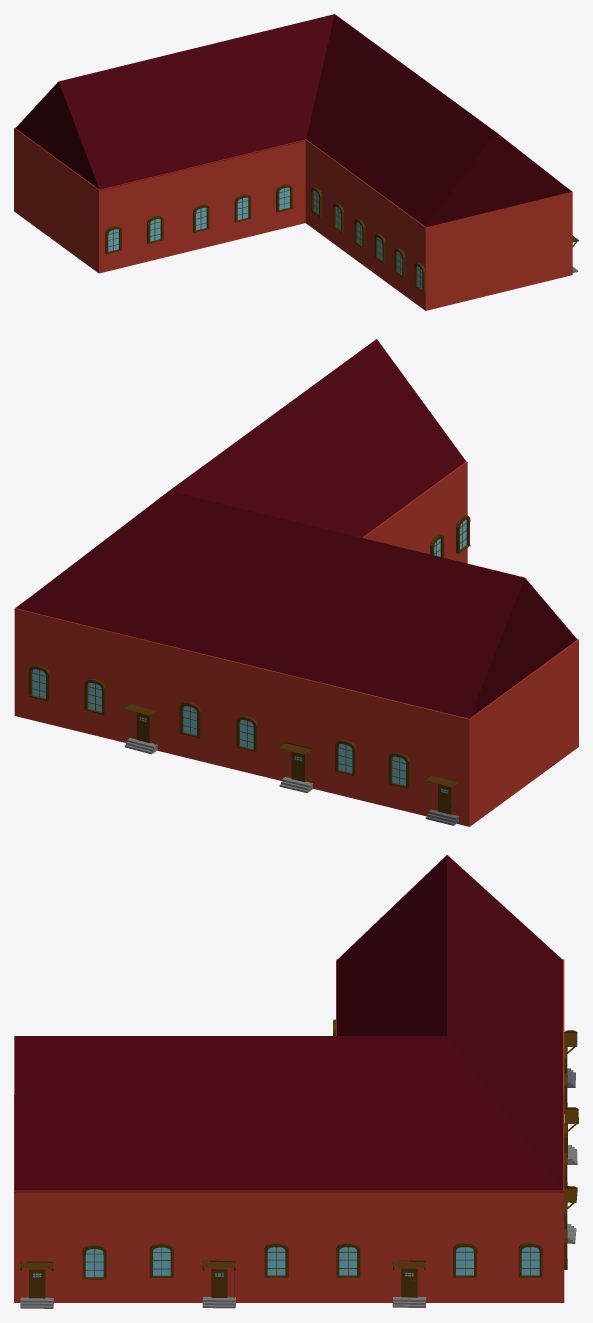
The model's file is naroznik2.fbx.
3 views of the same model, one above another, from view 1: azimuth 30°, elevation 25°; view 2: azimuth 150°, elevation 25°; view 3: azimuth 270°, elevation 25° (orthographic). The views are drawn at different scales.
Parts seen in each view (by area): view 1: Cube, Cube.001, Cube.090, Cube.091, Cube.089, Cube.093, Cube.088; view 2: Cube, Cube.001, Cube.086, Cube.083, Cube.072, Cube.087, Cube.078, Cube.081, Cube.085, Cube.080, Cube.084; view 3: Cube, Cube.001, Cube.070, Cube.069, Cube.071, Cube.073, Cube.077, Cube.074, Cube.075, Cube.058, Cube.076.
Part boxes in pixels (x1,y1,x2,y2): Cube: (15,14,571,227); Cube.001: (14,127,572,310); Cube.090: (234,194,251,222); Cube.091: (193,204,209,232); Cube.089: (147,215,163,243); Cube.093: (276,184,292,212); Cube.088: (105,226,121,253); Cube: (14,339,577,718); Cube.001: (14,461,578,826); Cube.086: (279,742,312,793); Cube.083: (123,702,157,754); Cube.072: (425,774,458,825); Cube.087: (388,752,409,788); Cube.078: (179,702,200,738); Cube.081: (28,665,49,701); Cube.085: (335,740,356,776); Cube.080: (84,679,105,714); Cube.084: (236,716,257,751); Cube: (14,855,563,1192); Cube.001: (14,959,564,1302); Cube.070: (202,1260,235,1308); Cube.069: (20,1261,53,1308); Cube.071: (392,1260,426,1307); Cube.073: (82,1244,106,1279); Cube.077: (518,1242,542,1277); Cube.074: (264,1242,288,1277); Cube.075: (336,1242,360,1277); Cube.058: (149,1243,173,1277); Cube.076: (453,1242,477,1277).
Size of the model in its own units: 925 by 394 by 928.
95 materials, 95 textured.
